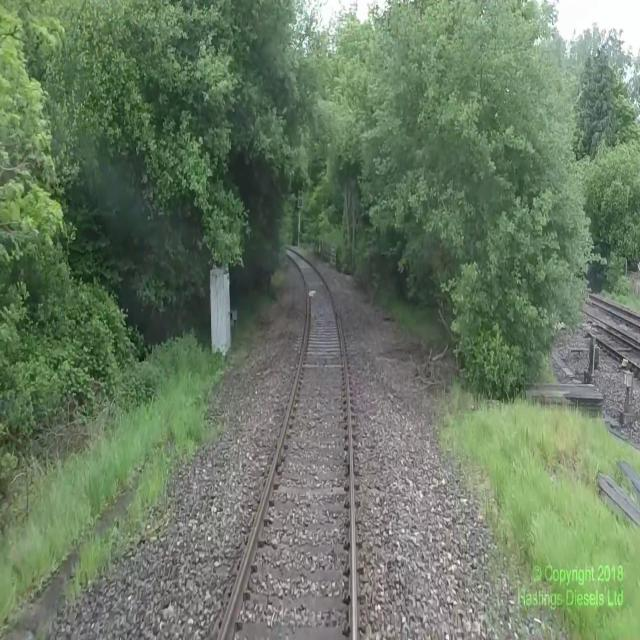rail-track: (222, 247, 350, 639)
